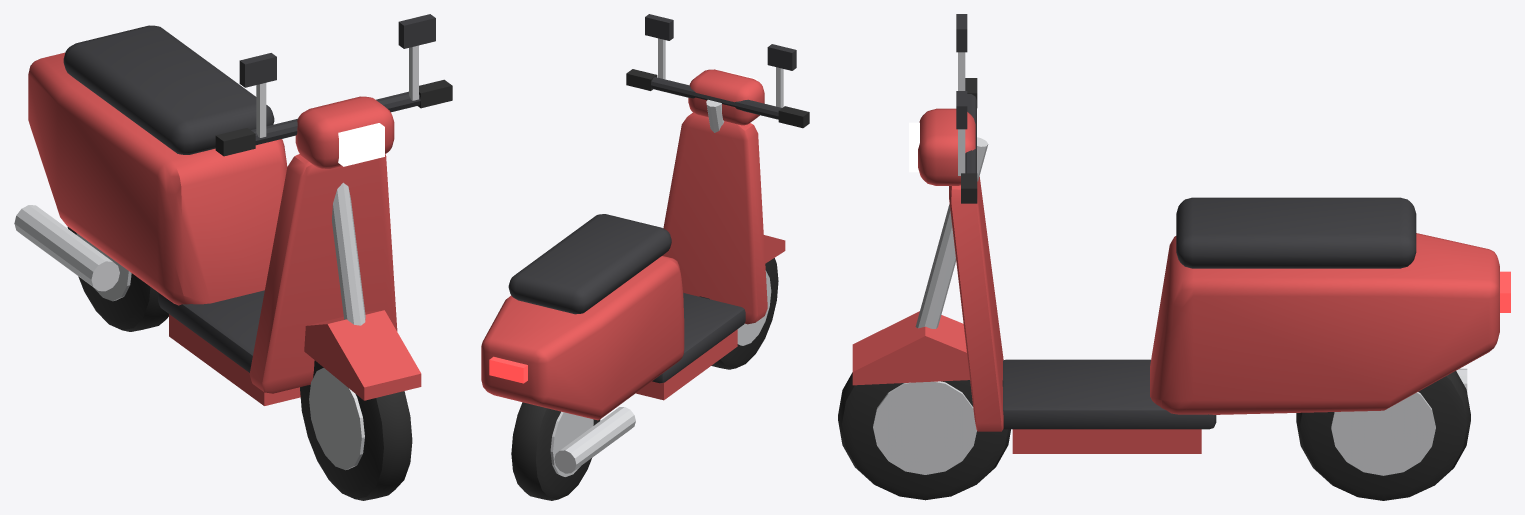
File: car_moped.glb
3 views of the same model, side by side, from view 1: azimuth 30°, elevation 25°; view 2: azimuth 150°, elevation 25°; view 3: azimuth 270°, elevation 25° (orthographic). The views are drawn at different scales.
Parts seen in each view (by area): view 1: body, wheel_f, wheel_r; view 2: body, wheel_r, wheel_f; view 3: body, wheel_f, wheel_r.
Boxes of the visible parts, x1,y1,x2,y2 form: body: (14, 14, 452, 405); wheel_f: (300, 360, 412, 500); wheel_r: (67, 227, 168, 331); body: (481, 14, 809, 473); wheel_r: (511, 402, 600, 500); wheel_f: (699, 258, 778, 369); body: (852, 14, 1510, 453); wheel_f: (838, 372, 1010, 500); wheel_r: (1296, 371, 1470, 500).
Bounding box in the file's own units: 0.72 × 1.32 × 1.85.
